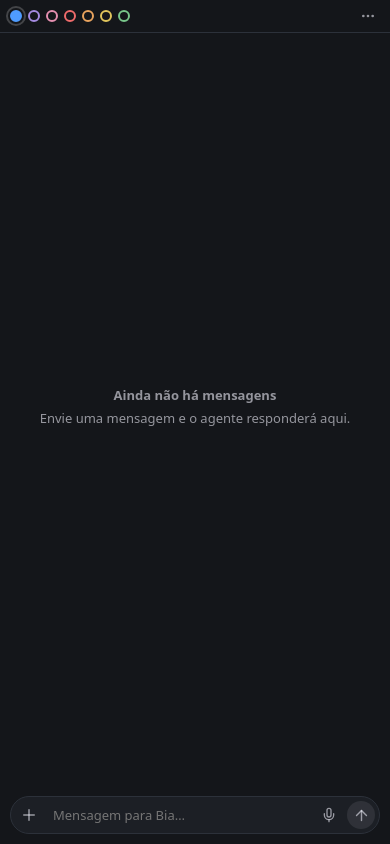
o menu tem as duas ações, cada uma pedindo a mesma confirmação; Esc e clique fora fecham
Later steps or results of the test are not shown.
Click the button named "Ações do chat" at x=368, y=16, box [356, 6, 380, 26]
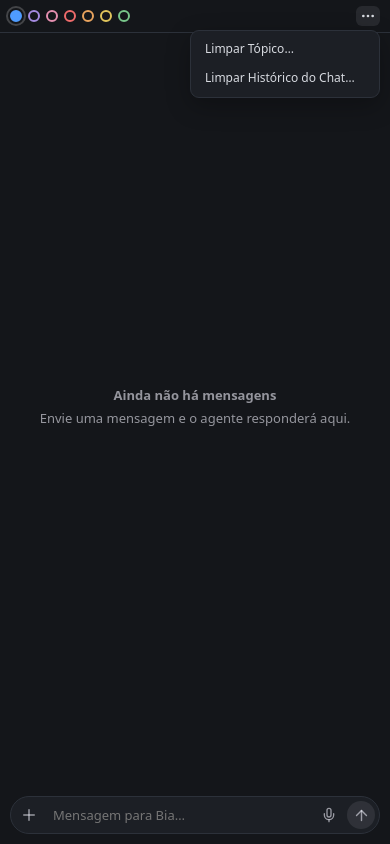
Click the menu item "Limpar Tópico…" at x=285, y=49, box [195, 35, 375, 64]
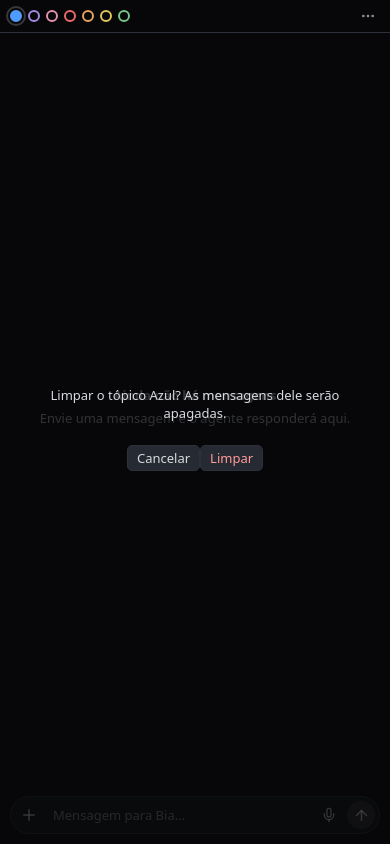
Click the button "Cancelar" at x=163, y=458, box [127, 445, 200, 471]
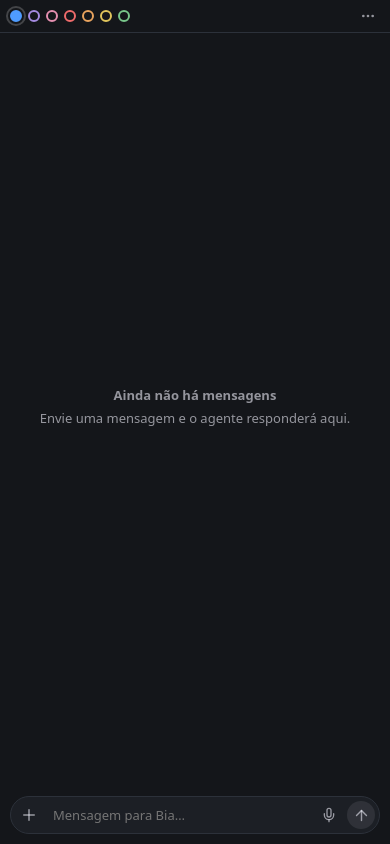
Click the button named "Ações do chat" at x=368, y=16, box [356, 6, 380, 26]
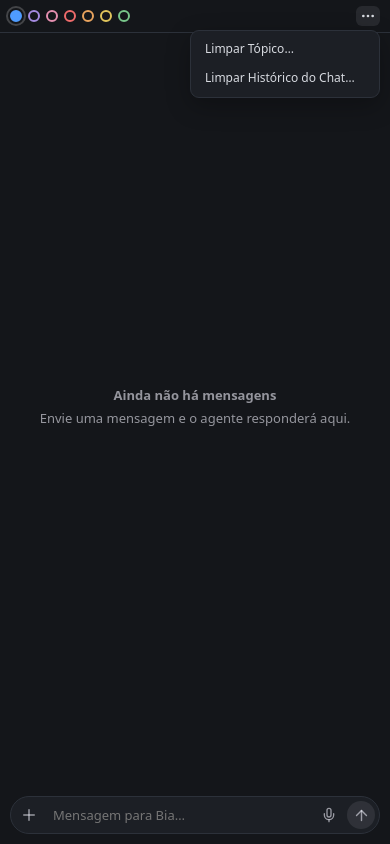
Click the menu item "Limpar Histórico do Chat…" at x=285, y=78, box [195, 64, 375, 93]
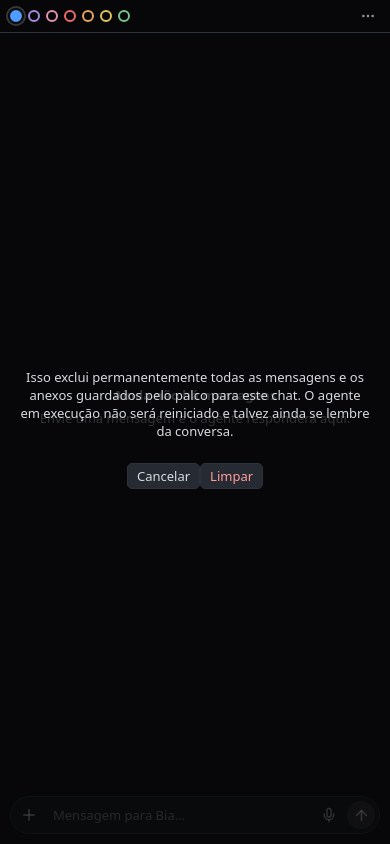
Expected: the dialog has attribute aria-label="Limpar Histórico do Chat"
